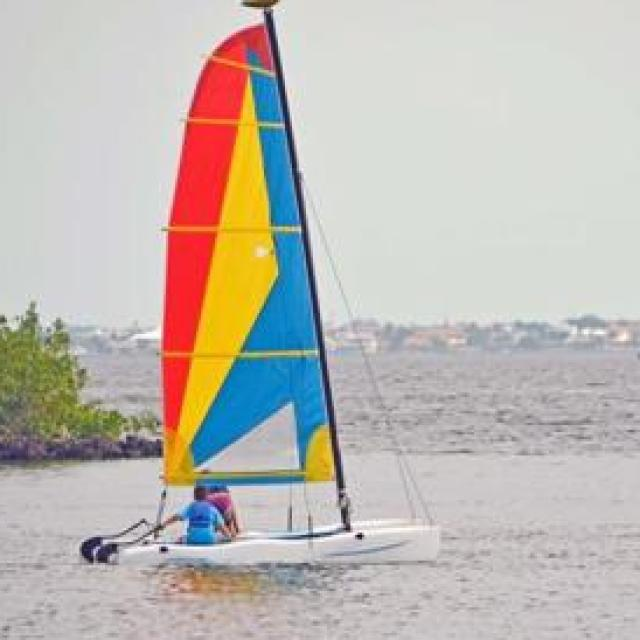sailboat: (75, 0, 427, 568)
